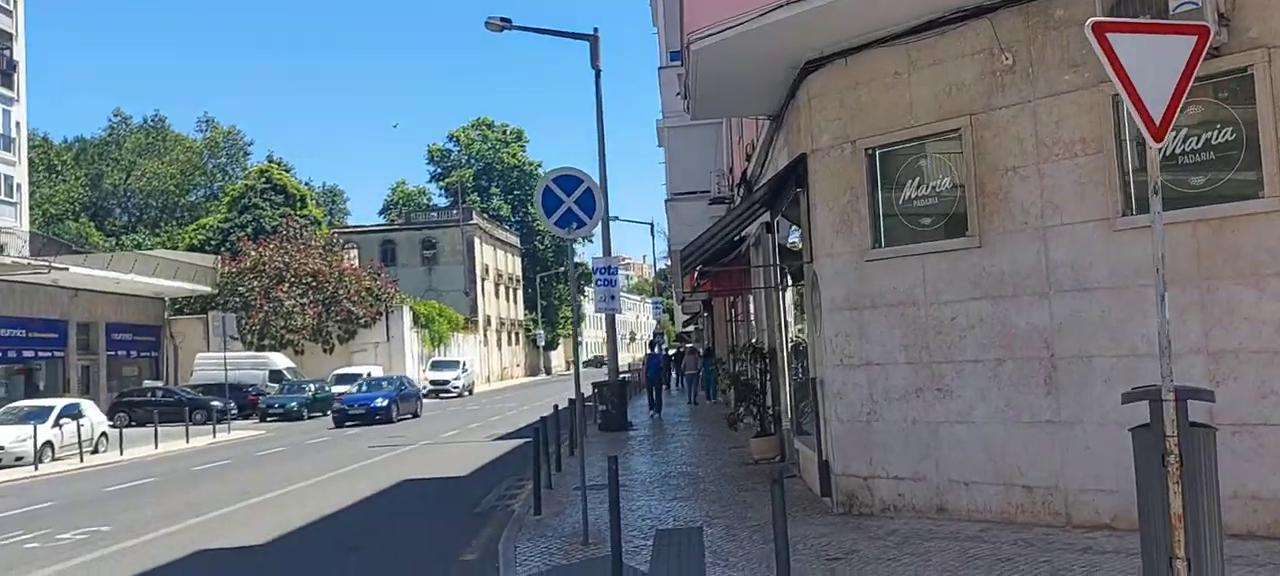cedencia de passagem: (1078, 14, 1214, 145)
paragem e estacionamento proibido: (537, 162, 607, 241)
